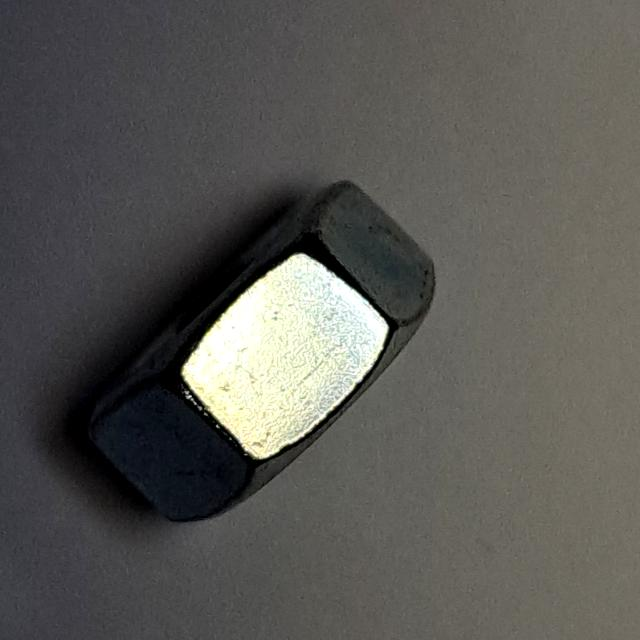Side_Excellent: (58, 166, 458, 536)
